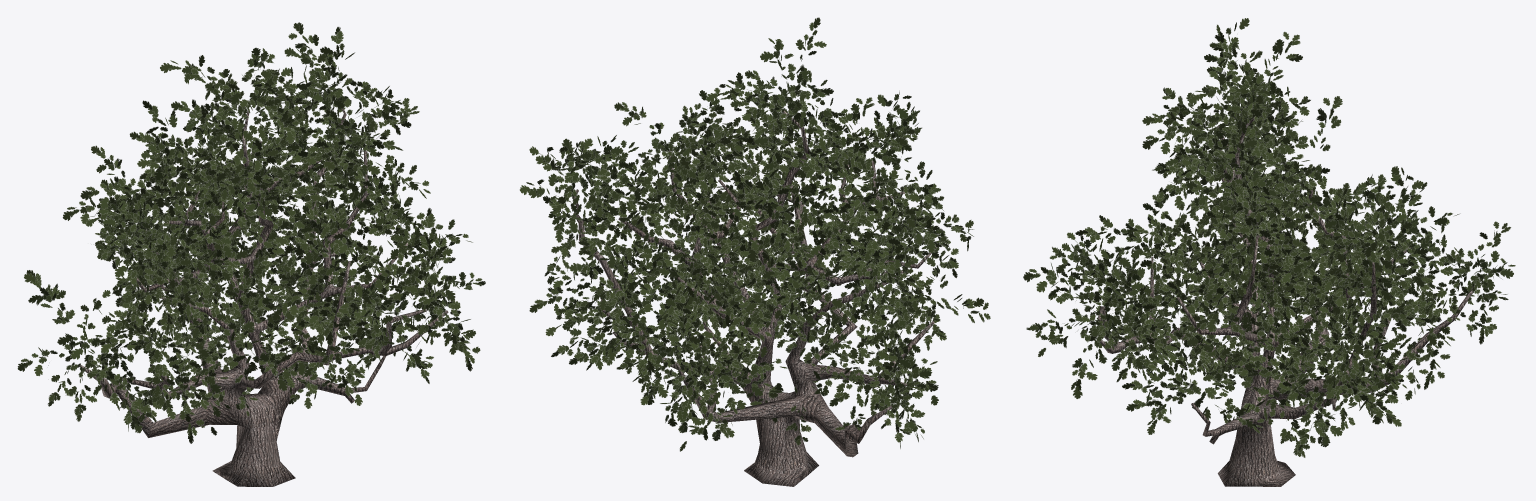
File: dob_koncni_siv.gltf
3 renders of one model, left to right at view 1: azimuth 30°, elevation 25°; view 2: azimuth 150°, elevation 25°; view 3: azimuth 270°, elevation 25°, orthographic.
Parts seen in each view (by area): view 1: bitmap.444, og_deblo_veje; view 2: bitmap.444, og_deblo_veje; view 3: bitmap.444, og_deblo_veje.
Part boxes in pixels (<box>): bitmap.444: <box>17,22,485,443</box>; og_deblo_veje: <box>79,108,448,486</box>; bitmap.444: <box>519,17,990,451</box>; og_deblo_veje: <box>573,110,937,486</box>; bitmap.444: <box>1023,18,1515,457</box>; og_deblo_veje: <box>1098,116,1474,486</box>.
Bounding box in the file's own units: 14.63 × 16.37 × 16.7.
2 materials, 2 textured.
